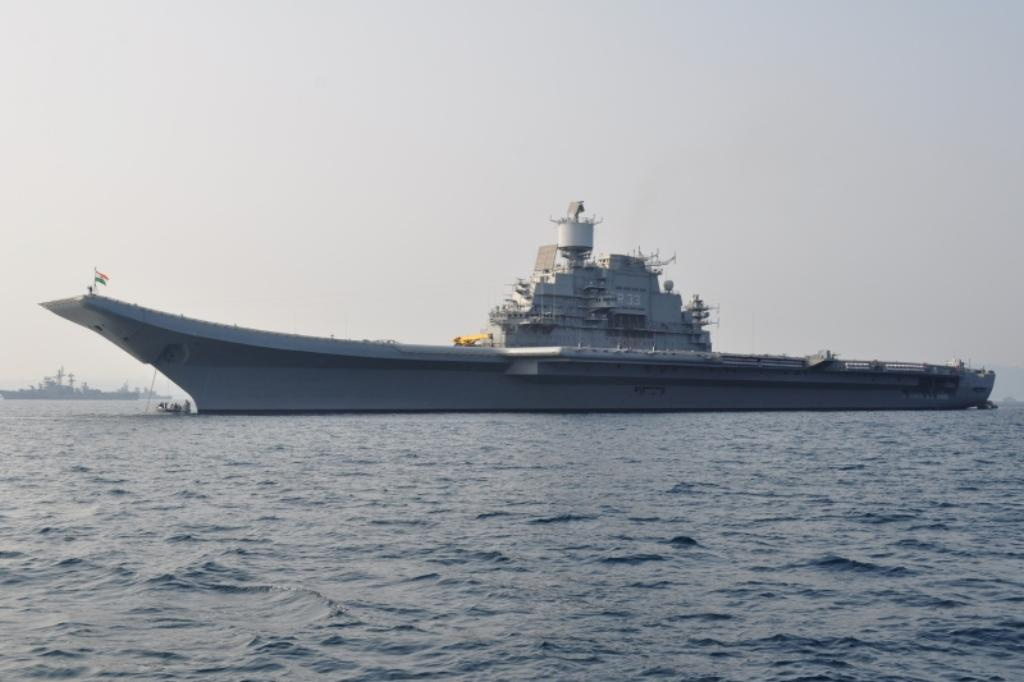Warship: (34, 188, 1002, 422)
